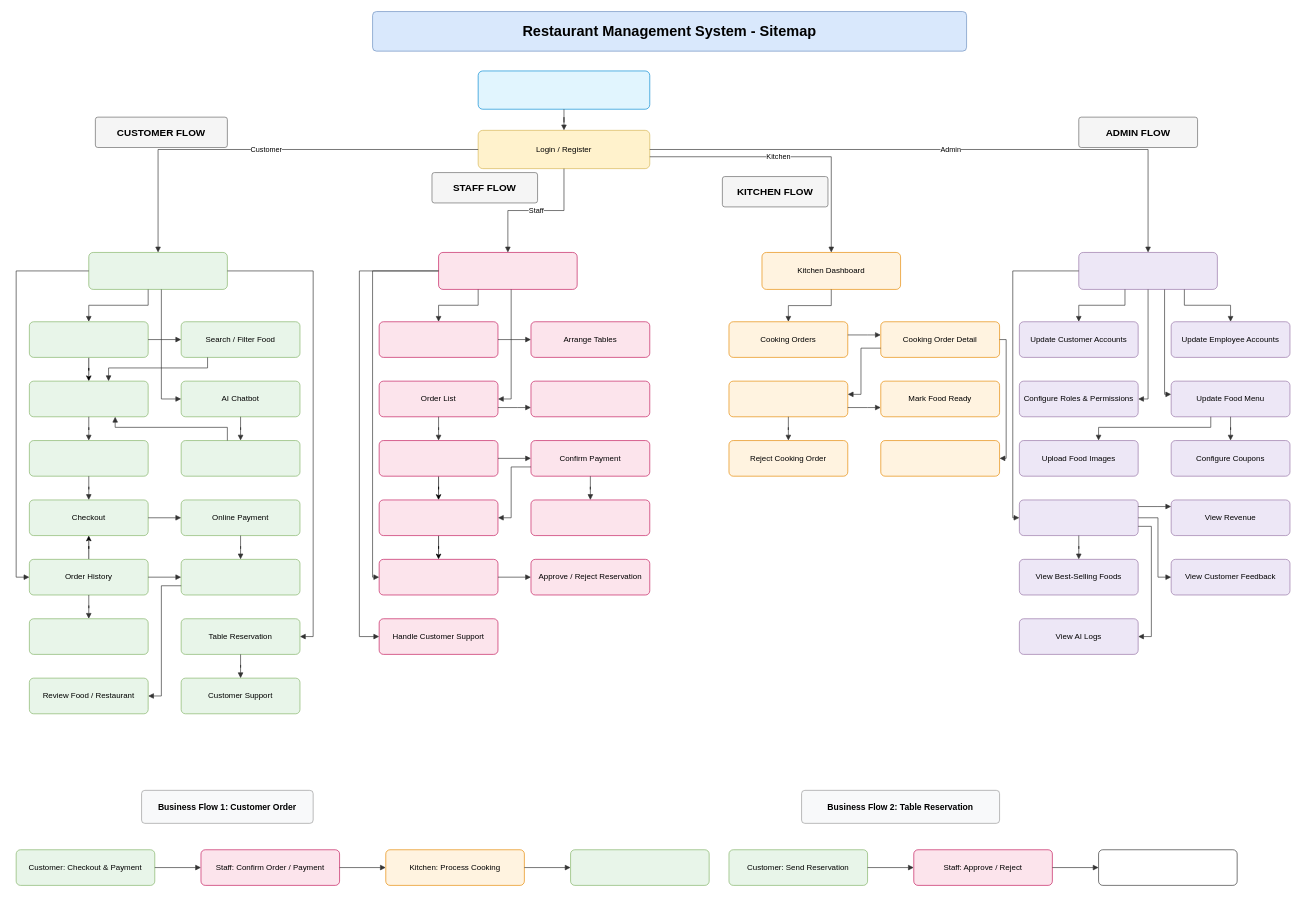
This 1302x897 diagram has some shape labels left out. Here are the shapes that lost their labels. From the top down, the box of each, then its label:
(478, 70, 650, 109): Home / Landing Page
(88, 252, 227, 289): Customer Dashboard
(438, 252, 577, 289): Staff Dashboard
(1078, 252, 1217, 289): Admin Dashboard
(29, 321, 148, 357): View Food Menu
(379, 321, 498, 357): Table Status
(29, 380, 148, 417): Food Detail
(530, 380, 650, 417): Counter Order
(728, 380, 848, 417): Update Cooking Status
(29, 440, 148, 476): Cart
(181, 440, 300, 476): Food Recommendation
(379, 440, 498, 476): Update Order Status
(880, 440, 1000, 476): Predict Cooking Time
(379, 499, 498, 536): Process QR Payment
(530, 499, 650, 536): Print Invoice
(1019, 499, 1138, 536): View Dashboard
(181, 559, 300, 595): Track Order Status
(379, 559, 498, 595): Reservation Requests
(29, 618, 148, 654): Download Invoice
(570, 849, 709, 885): Customer: Track Status / Invoice
(1098, 849, 1237, 885): System: Send Notification
